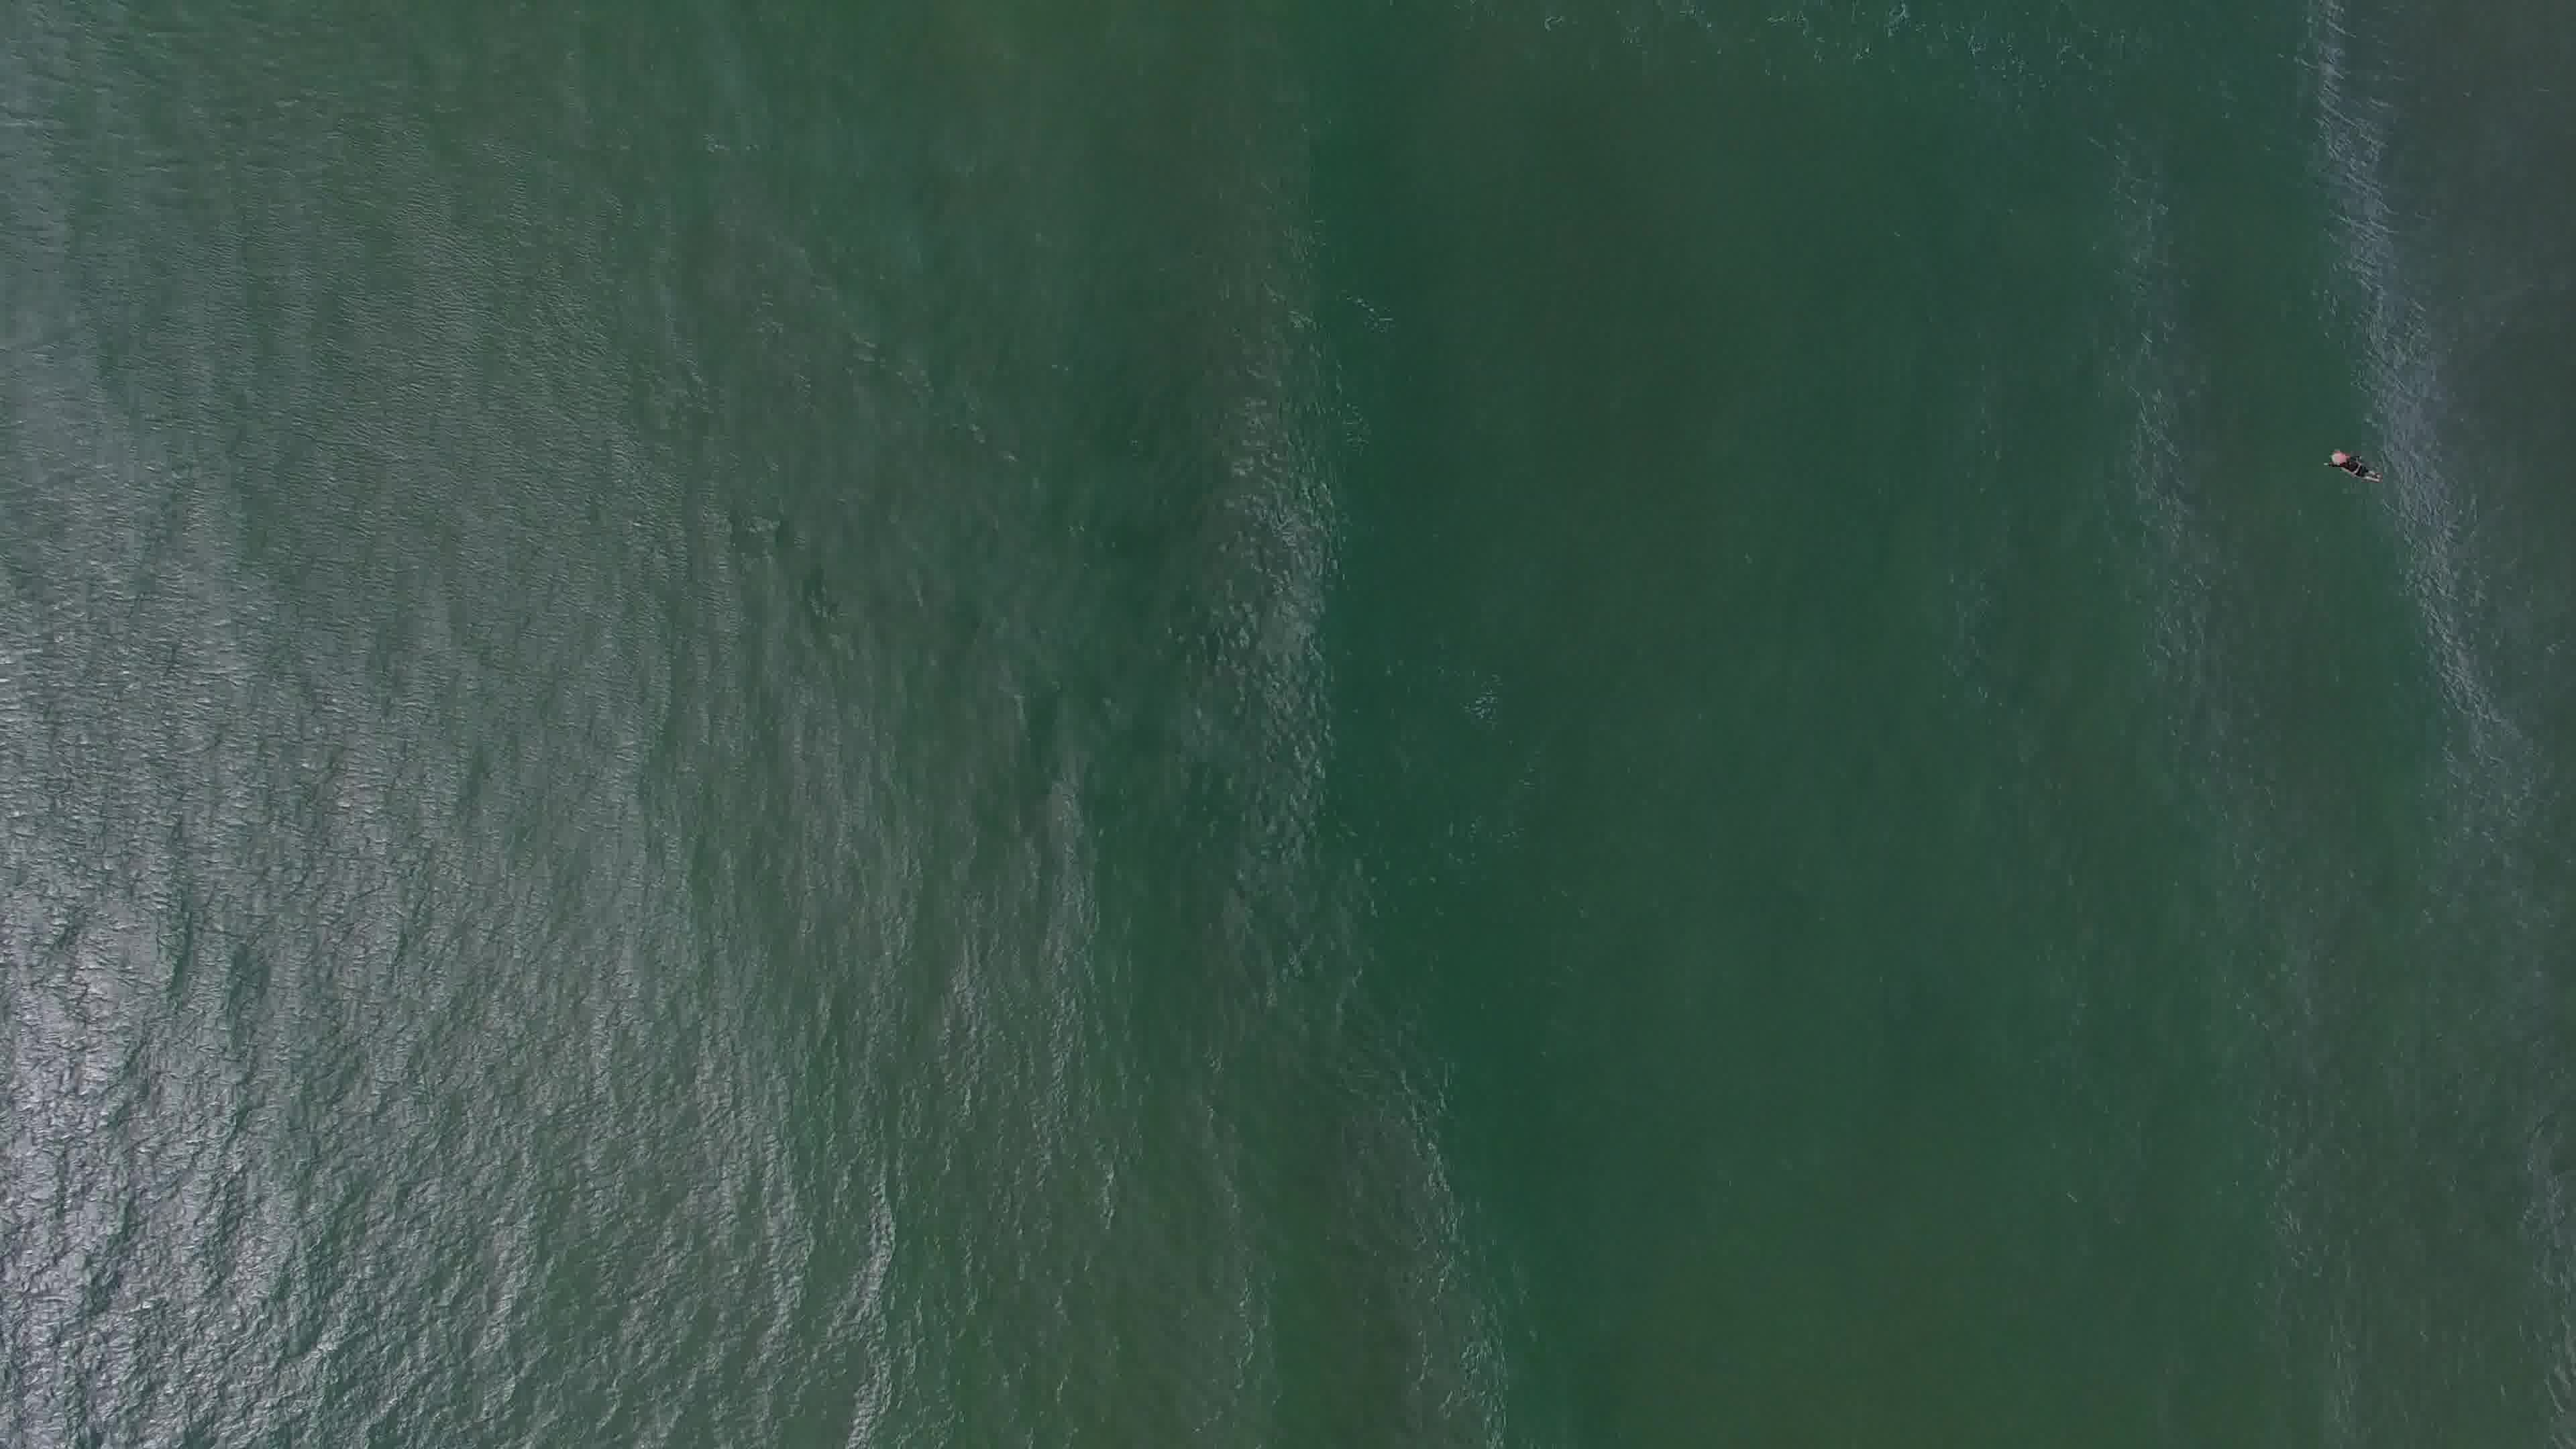surfer: (2321, 444, 2396, 488)
